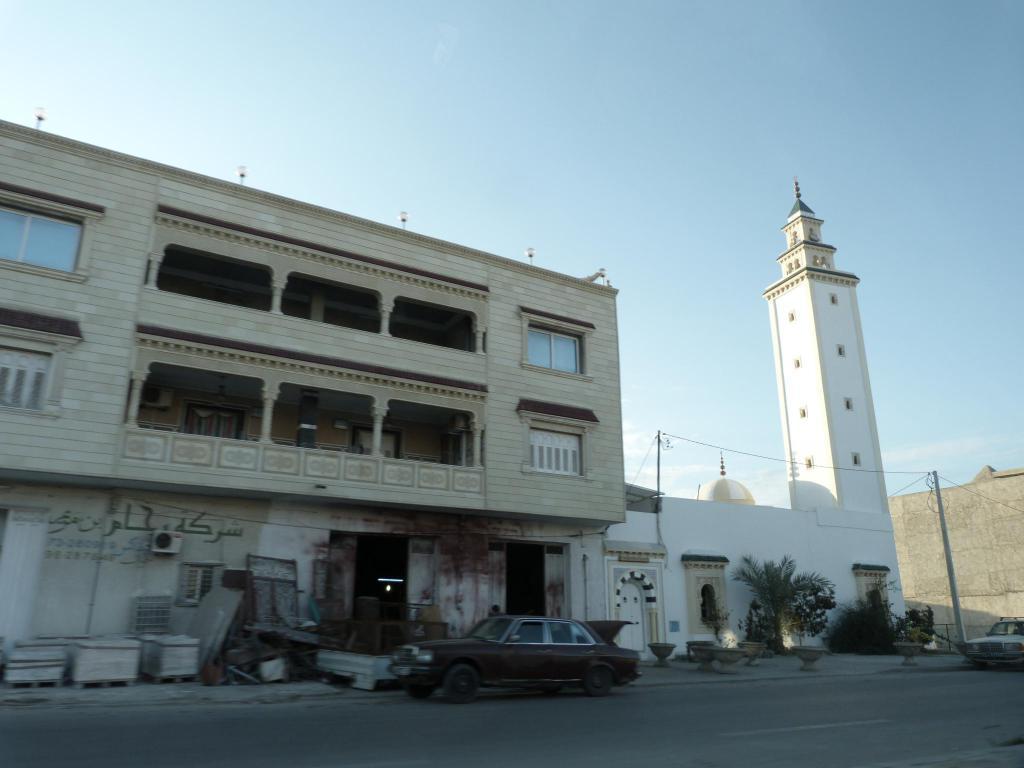Car: (404, 614, 634, 708), (952, 616, 1023, 669)
